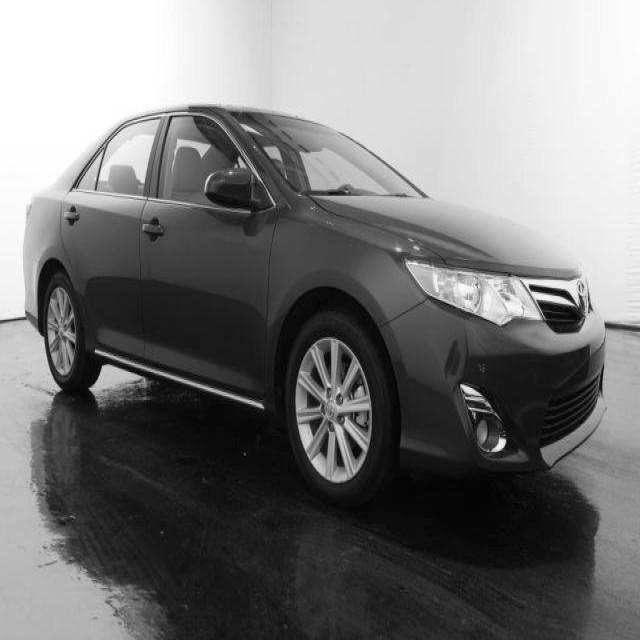car: (21, 101, 608, 508)
